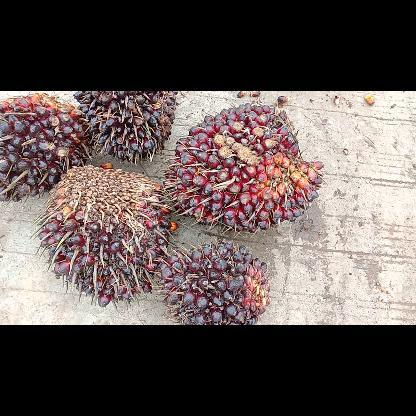TBS mentah: (163, 104, 323, 236), (30, 165, 174, 309), (0, 92, 92, 204), (151, 240, 269, 324), (72, 91, 176, 164)
